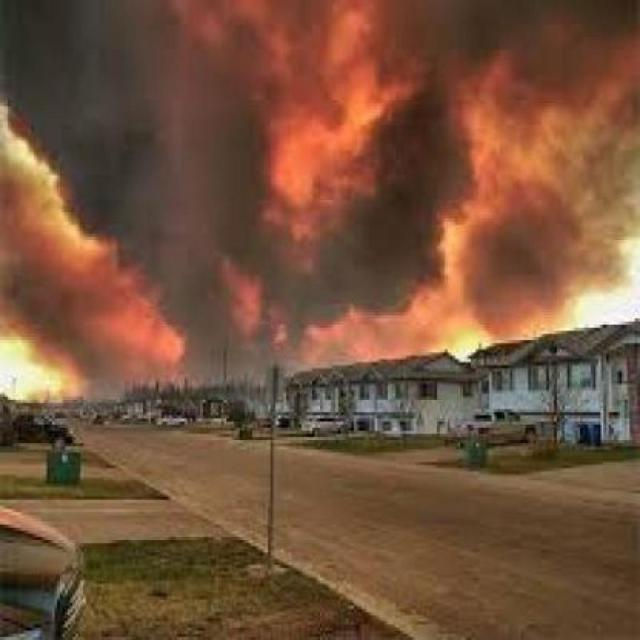Fire: (66, 222, 522, 392)
